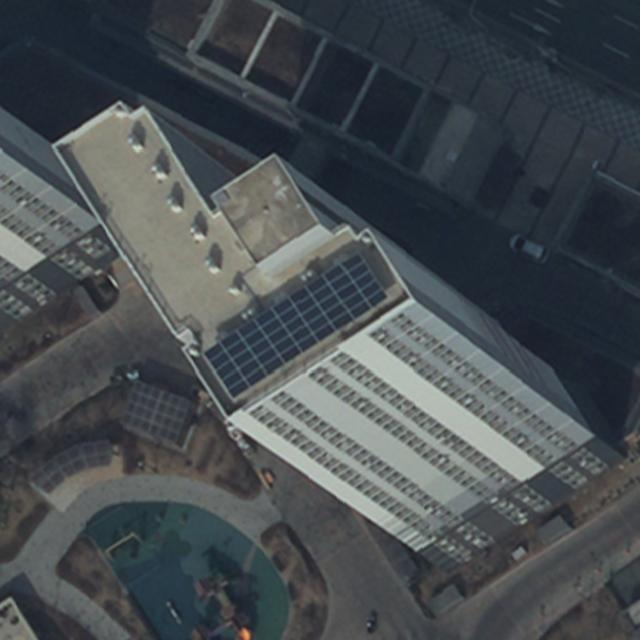panel: (200, 250, 388, 400)
